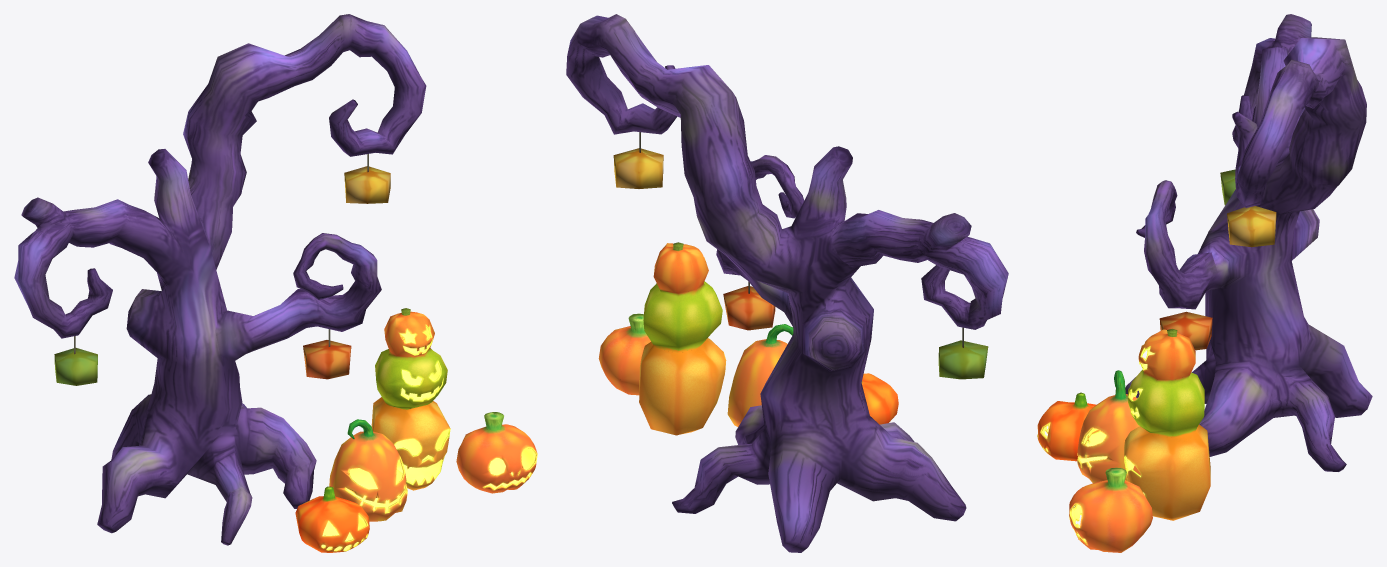
The picture shows the model from 3 angles, left to right: view 1: azimuth 30°, elevation 25°; view 2: azimuth 150°, elevation 25°; view 3: azimuth 270°, elevation 25°; orthographic projection. The views are drawn at different scales.
Visible parts, largest first — view 1: Jack_tree, jack_tower, Jack_o_lerntern_long, Jack_tree_pumpkin, Jack_o_lerntern, Jack_o_lerntern_oblong; view 2: Jack_tree, jack_tower, Jack_tree_pumpkin, Jack_o_lerntern_long, Jack_o_lerntern, Jack_o_lerntern_oblong; view 3: Jack_tree, jack_tower, Jack_o_lerntern, Jack_o_lerntern_long, Jack_tree_pumpkin, Jack_o_lerntern_oblong.
Boxes of the visible parts, x1,y1,x2,y2 form: Jack_tree: (14,14,426,545); jack_tower: (371,308,450,490); Jack_o_lerntern_long: (329,419,407,521); Jack_tree_pumpkin: (54,154,390,385); Jack_o_lerntern: (456,412,537,493); Jack_o_lerntern_oblong: (295,486,369,552); Jack_tree: (566,14,1008,552); jack_tower: (639,242,726,435); Jack_tree_pumpkin: (613,132,988,379); Jack_o_lerntern_long: (727,324,793,426); Jack_o_lerntern: (598,313,650,395); Jack_o_lerntern_oblong: (861,373,898,424); Jack_tree: (1125,14,1372,471); jack_tower: (1124,329,1210,520); Jack_o_lerntern: (1069,467,1152,552); Jack_o_lerntern_long: (1077,370,1140,483); Jack_tree_pumpkin: (1159,169,1276,350); Jack_o_lerntern_oblong: (1037,392,1099,461).
Size of the model in its own units: 5.27 by 4.87 by 3.25.
Materials: 6 (6 with a texture image).
